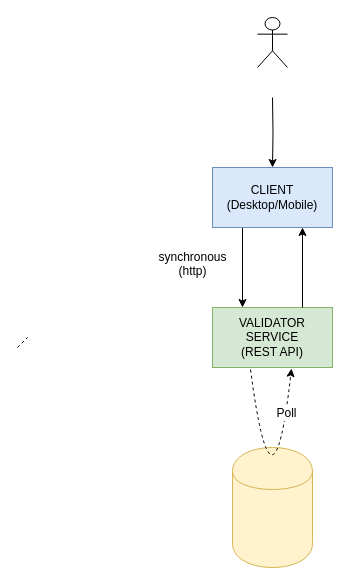
Image size: 350x585. Some labels were removed from this diagram. The shapes that lost their labels are listed below. From the top down, each one's box as (x1, y1, x2, y2) in pixels, then its label:
(256, 16, 288, 68): User
(232, 446, 312, 568): DATASTORE (Config Repo)
